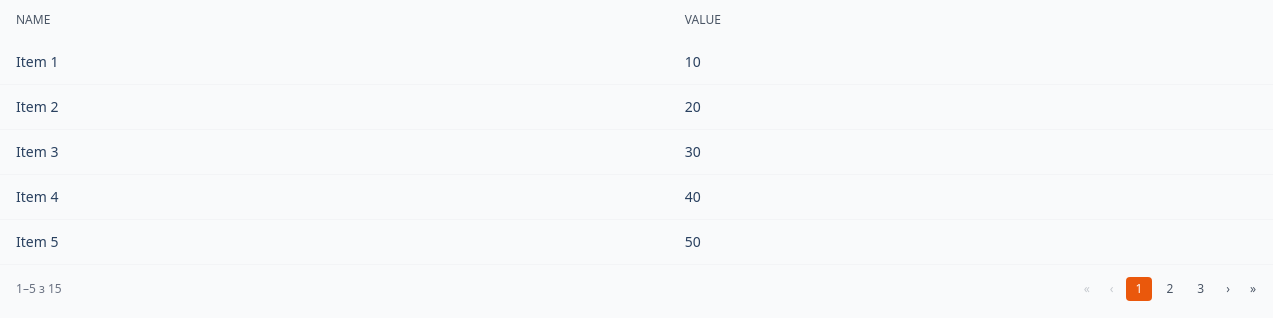
Test: DataTable › navigates back to previous page
The image size is (1273, 318).
Note: Go to page 2 then back to page 1
Click the button named "Наступна сторінка". click: (1228, 289)
box: [1218, 277, 1238, 301]
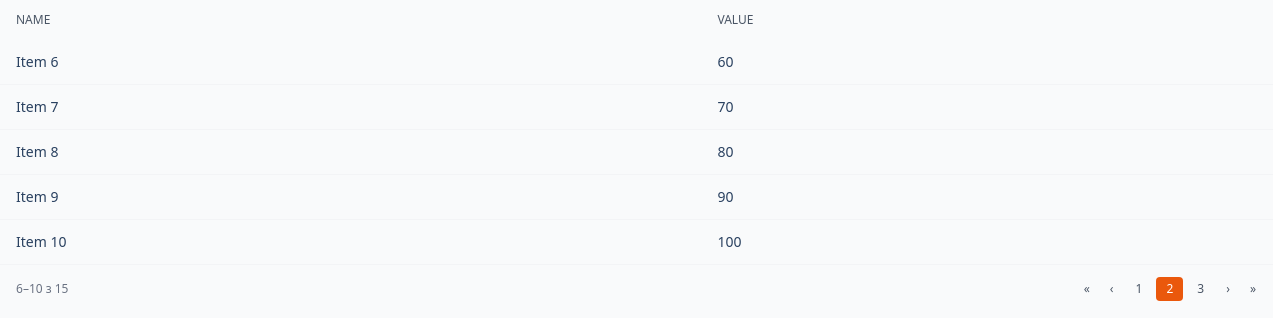
Expected: the text "Item 6" is shown, [0, 40, 701, 84]
Click the button named "Попередня сторінка". click: (1112, 289)
box: [1102, 277, 1122, 301]
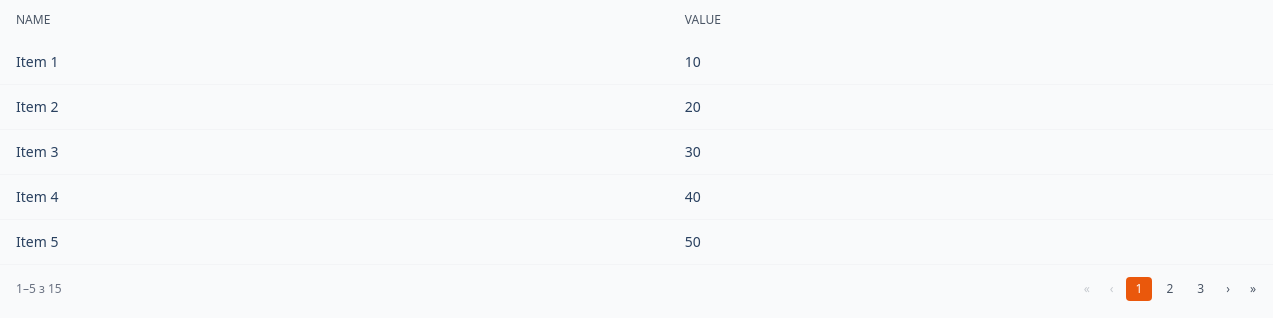
Expected: the text "Item 1" is shown, [0, 40, 669, 84]
